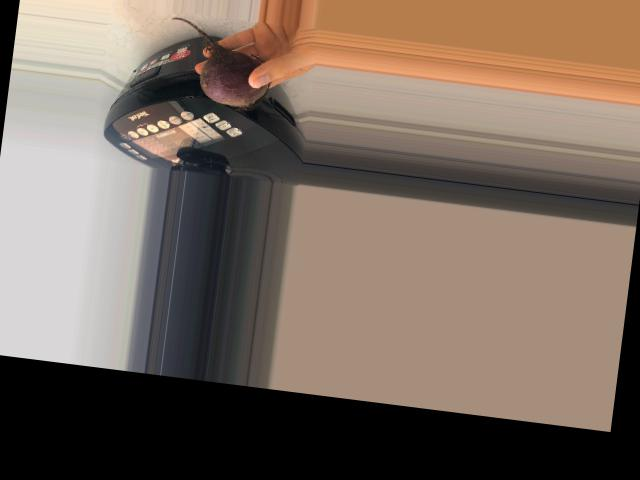beet: (161, 16, 276, 113)
